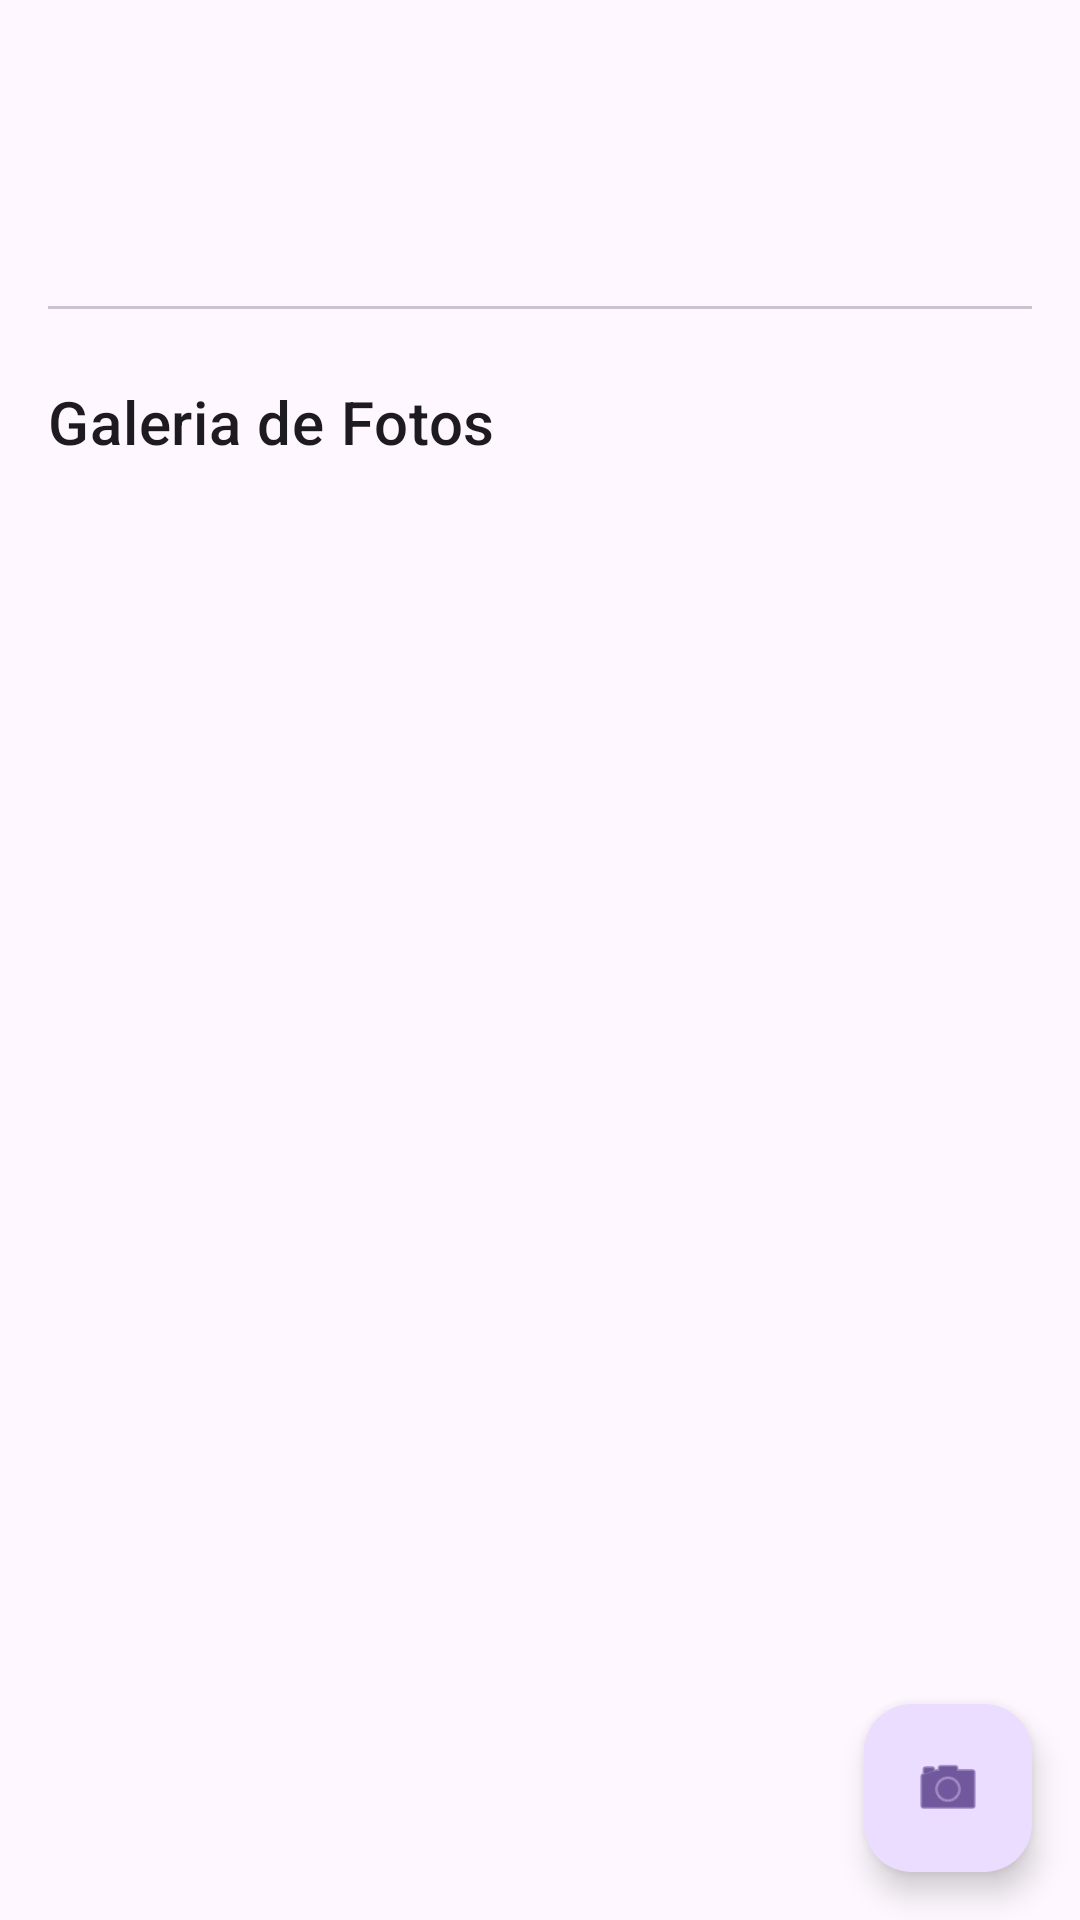

Named icons in this screenshot (1080 x 1920) and their centers, (x=x, y=y):
Adicionar nova foto: (x=948, y=1788)
